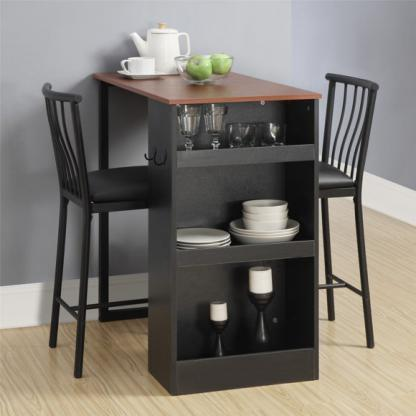chair: (42, 77, 147, 389), (318, 63, 382, 352)
table: (90, 64, 319, 393)
